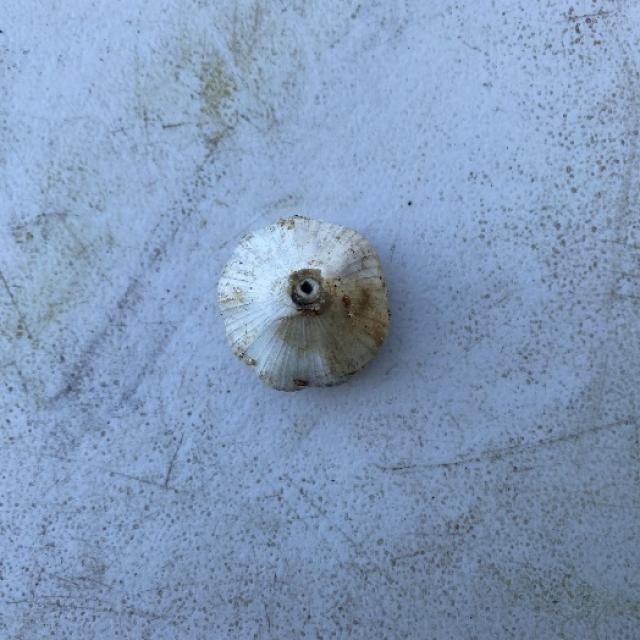organik: (222, 226, 389, 385)
